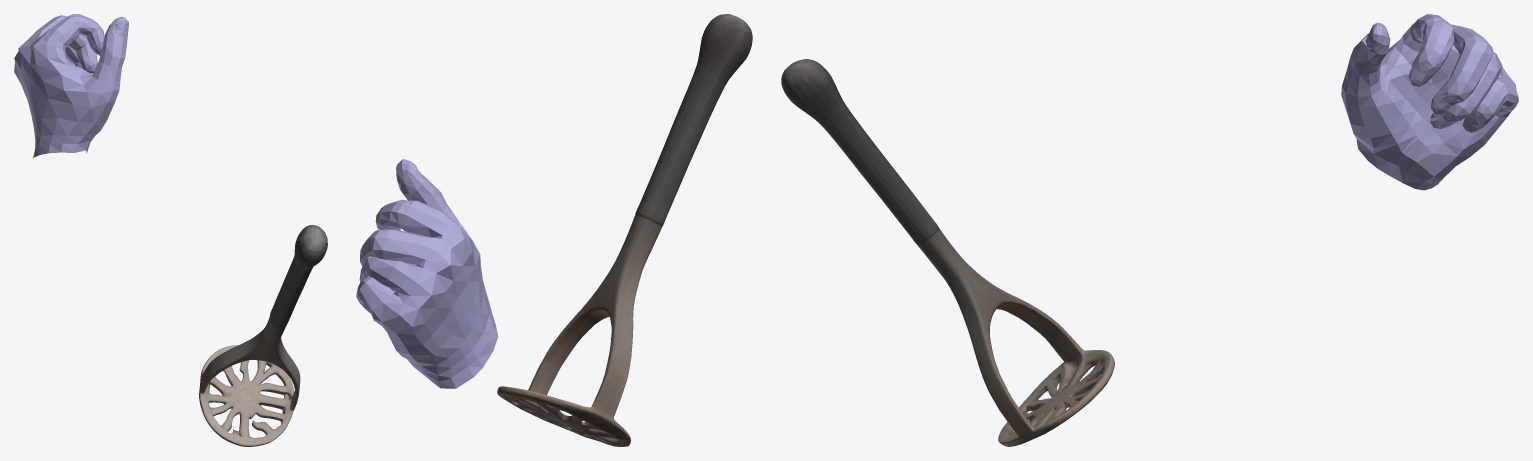
The model's file is frame_0005_source_000005_hand_object.glb.
3 views of the same model, side by side, from view 1: azimuth 30°, elevation 25°; view 2: azimuth 150°, elevation 25°; view 3: azimuth 270°, elevation 25° (orthographic). The views are drawn at different scales.
Visible parts, largest first — view 1: world; view 2: world; view 3: world.
Boxes of the visible parts, x1=… form: world: x1=14, y1=14, x2=327, y2=446; world: x1=356, y1=14, x2=752, y2=446; world: x1=781, y1=14, x2=1518, y2=446.
Bounding box in the file's own units: 0.1028 × 0.2616 × 0.4183.
